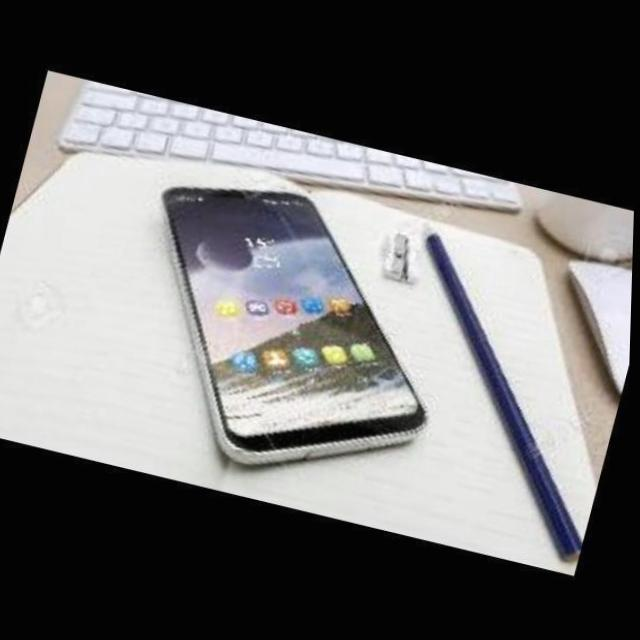Smartphone: (147, 179, 445, 482)
